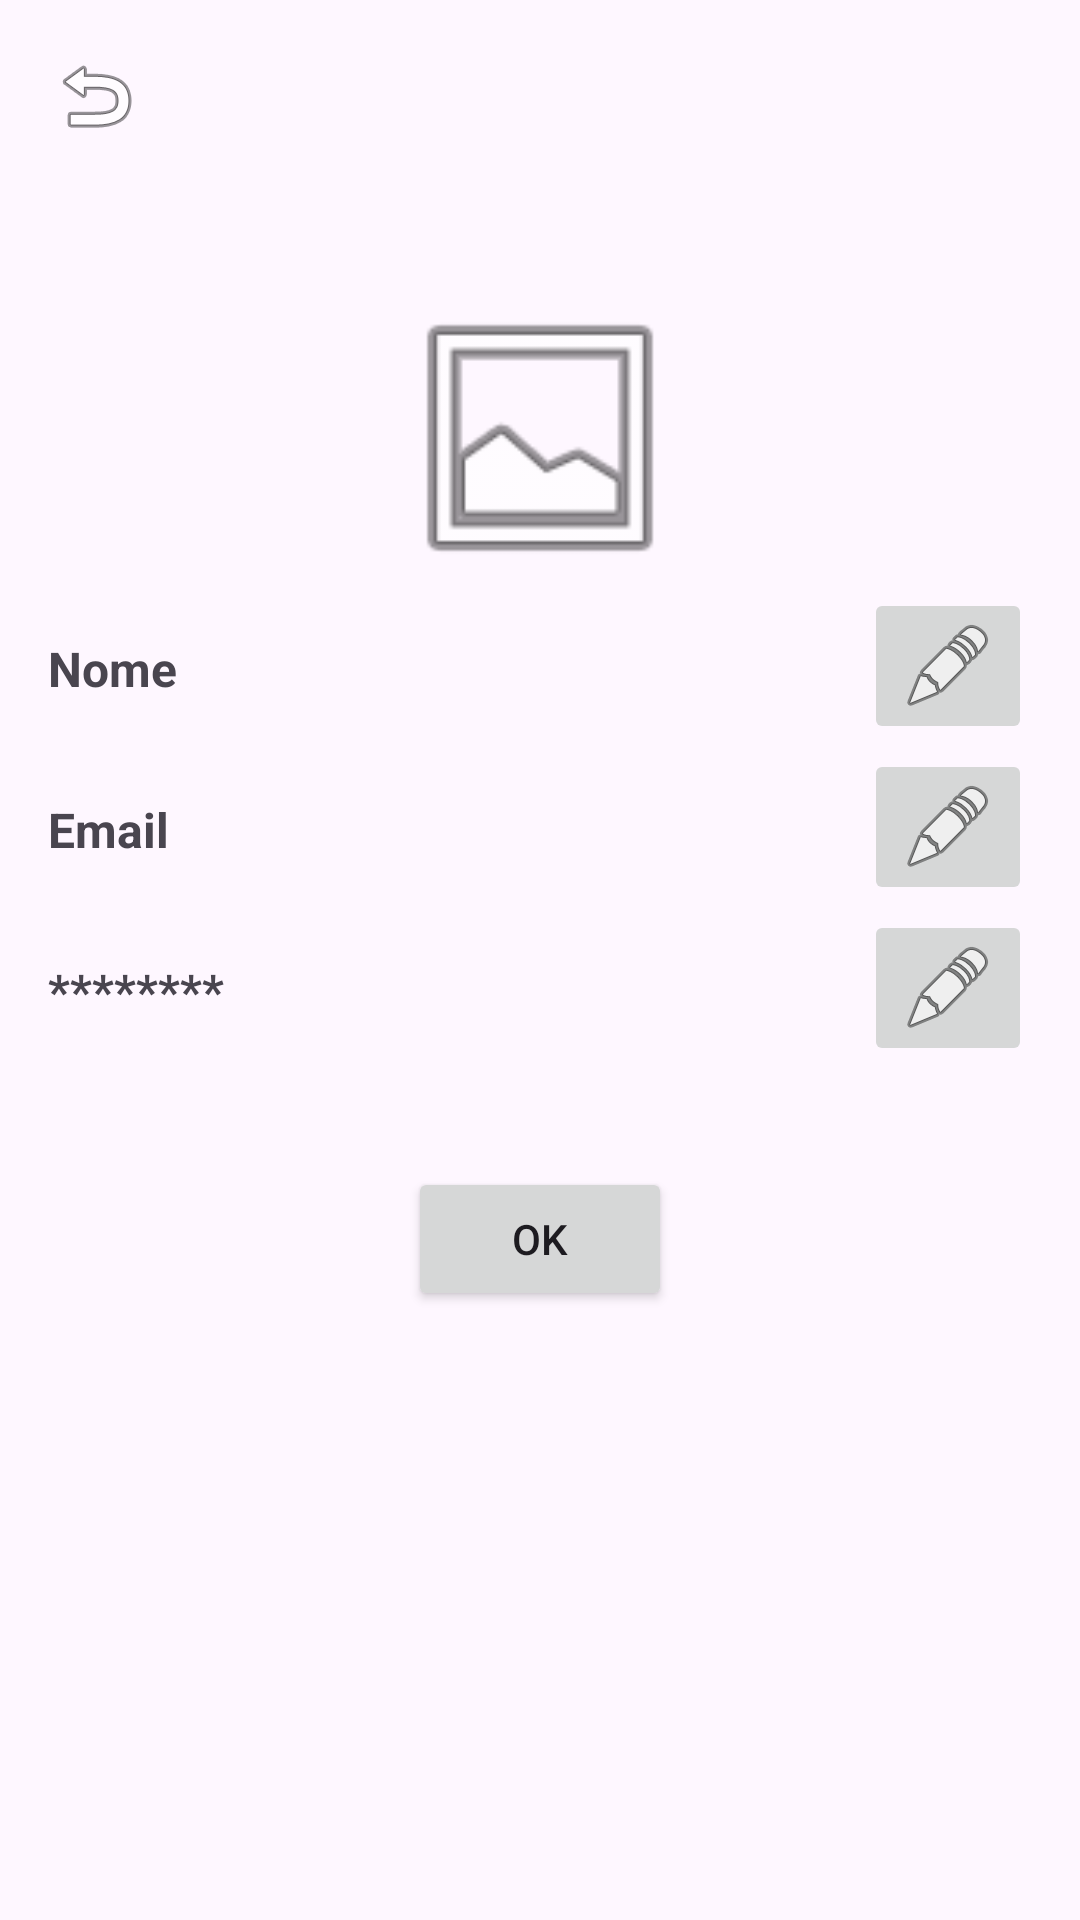

Icons on this 1080 x 1920 Android screen, each with the point to tap as (x=x, y=y):
Botão de voltar: (x=97, y=96)
Editar Senha: (x=948, y=988)
